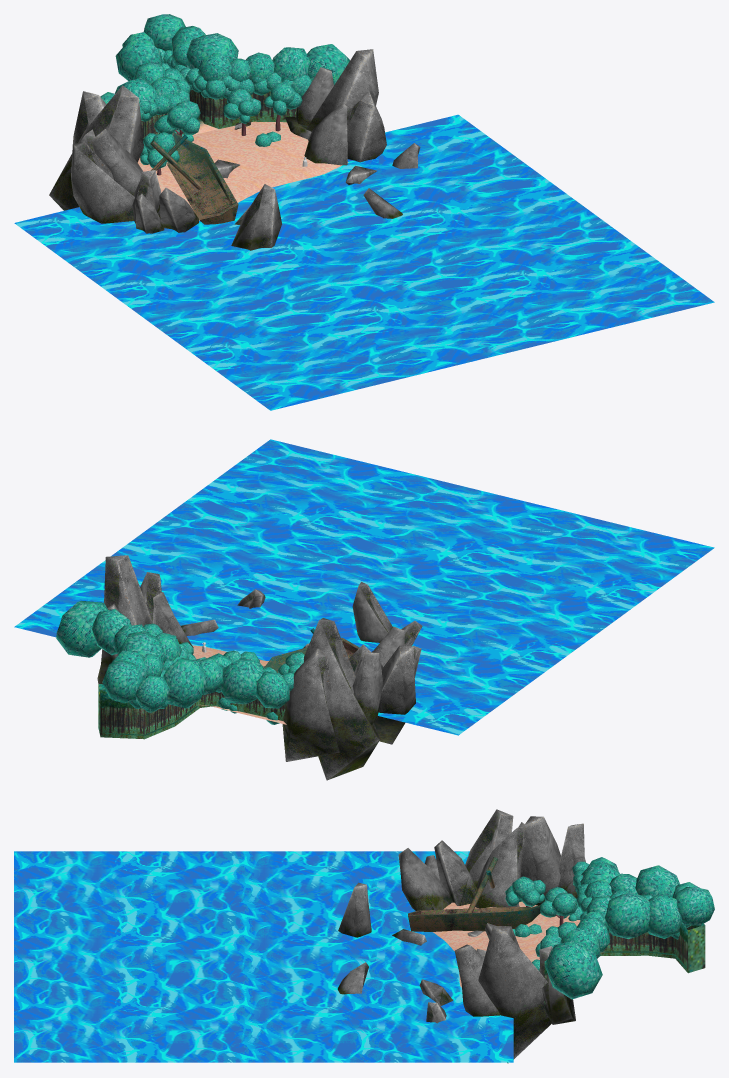
File: beach.fbx
The picture shows the model from 3 angles, top to bottom: view 1: azimuth 30°, elevation 25°; view 2: azimuth 150°, elevation 25°; view 3: azimuth 270°, elevation 25°; orthographic projection. The views are drawn at different scales.
Visible parts, largest first — view 1: Plane.001, Plane, Cylinder, Rock.009, Rock.005, Rock.001, Rock.012, Rock.003, Rock, Plane.003, Rock.007, Rock.010 (+14 smaller); view 2: Plane.001, Rock.005, Rock.008, Plane.003, Rock.009, Rock.001, Tree.073, Tree.063, Rock.012, Tree.060, Rock.006, Tree.065 (+8 smaller); view 3: Plane.001, Rock.001, Cylinder, Plane.003, Tree.073, Rock.005, Rock.007, Rock.010, Plane, Rock.003, Tree.067, Rock.004 (+15 smaller).
Boxes of the visible parts, <box> form: Plane.001: <box>14,114,714,410</box>; Plane: <box>137,121,348,220</box>; Cylinder: <box>150,131,238,224</box>; Rock.009: <box>71,142,134,223</box>; Rock.005: <box>49,85,143,210</box>; Rock.001: <box>306,49,378,131</box>; Rock.012: <box>231,184,281,250</box>; Rock.003: <box>347,92,386,162</box>; Rock: <box>304,103,351,165</box>; Plane.003: <box>141,78,333,145</box>; Rock.007: <box>91,129,142,195</box>; Rock.010: <box>157,187,198,232</box>; Plane.001: <box>14,439,714,735</box>; Rock.005: <box>304,618,380,780</box>; Rock.008: <box>282,648,339,761</box>; Plane.003: <box>98,684,290,739</box>; Rock.009: <box>374,645,415,744</box>; Rock.001: <box>104,555,153,626</box>; Tree.073: <box>56,601,107,657</box>; Tree.063: <box>163,658,207,708</box>; Rock.012: <box>352,582,392,642</box>; Tree.060: <box>220,658,264,704</box>; Rock.006: <box>352,652,383,725</box>; Tree.065: <box>102,659,143,703</box>; Plane.001: <box>14,851,513,1062</box>; Rock.001: <box>478,926,551,1059</box>; Cylinder: <box>408,857,540,931</box>; Plane.003: <box>544,922,705,1003</box>; Tree.073: <box>544,940,602,999</box>; Rock.005: <box>520,816,560,905</box>; Rock.007: <box>475,827,523,908</box>; Rock.010: <box>398,848,452,910</box>; Plane: <box>433,901,580,987</box>; Rock.003: <box>454,944,508,1063</box>; Tree.067: <box>605,892,649,939</box>; Rock.004: <box>434,840,477,905</box>.
Size of the model in its own units: 7273 by 5186 by 1706.
